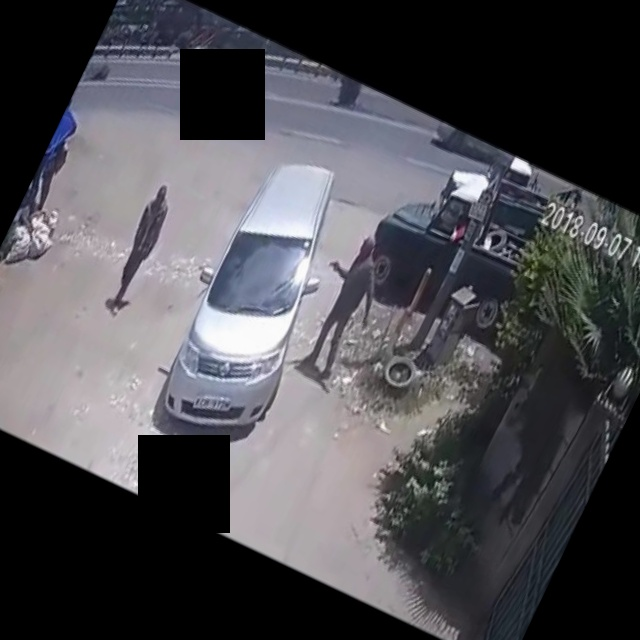gun: (322, 247, 345, 274)
